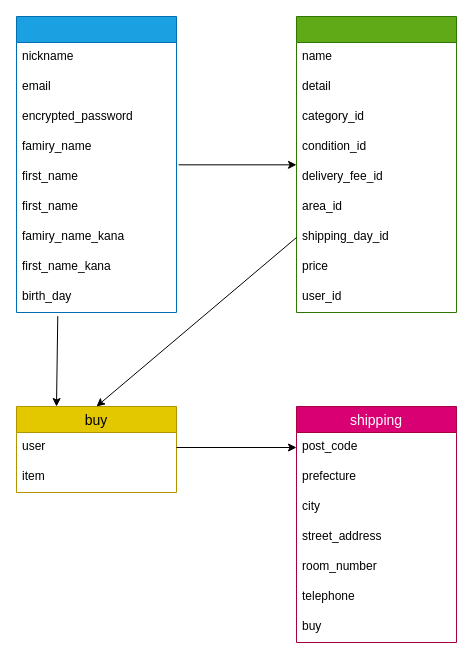
Image size: 473x659. Some labels were removed from this diagram. The shapes that lost their labels are listed below. From the top down, each one's box as (x1, y1, x2, y2) in pixels, then its label:
(16, 16, 176, 312): users
(296, 16, 456, 312): items
